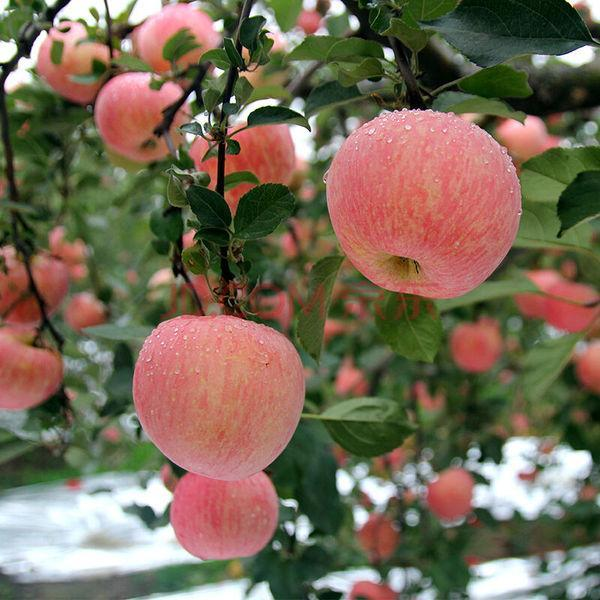apple: (325, 110, 523, 301), (129, 313, 302, 480), (168, 468, 279, 564), (93, 72, 190, 160), (1, 325, 65, 411), (491, 115, 557, 162)
